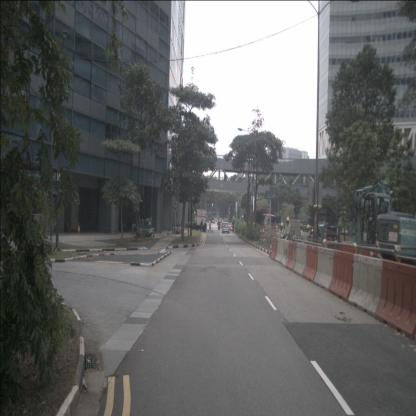barrier: (375, 259, 416, 340), (348, 252, 389, 318), (329, 249, 359, 303), (314, 247, 338, 292), (302, 244, 321, 282), (293, 242, 309, 276), (286, 240, 300, 272), (274, 238, 286, 264), (280, 239, 290, 267), (270, 237, 280, 261)
cone: (67, 223, 70, 234), (152, 229, 155, 237), (78, 223, 80, 234), (132, 224, 134, 235), (140, 229, 142, 239)
